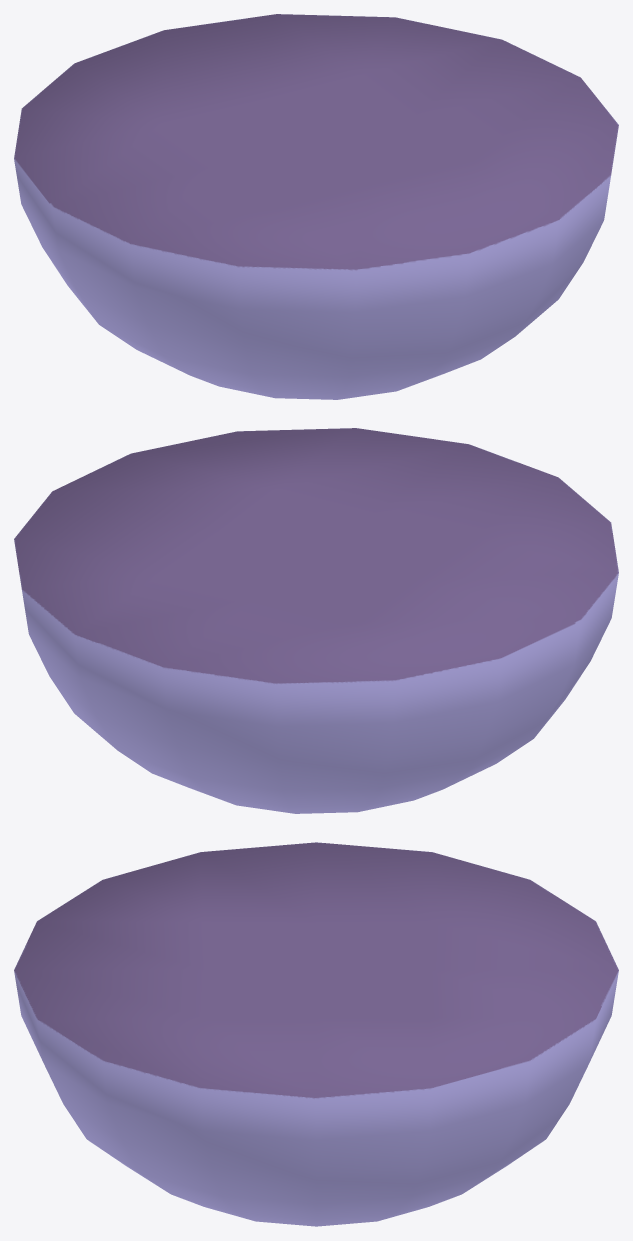
File: gea_body_upper.glb
3 renders of one model, top to bottom at view 1: azimuth 30°, elevation 25°; view 2: azimuth 150°, elevation 25°; view 3: azimuth 270°, elevation 25°, orthographic.
Visible parts, largest first — view 1: gea_body_upper; view 2: gea_body_upper; view 3: gea_body_upper.
Boxes of the visible parts, x1,y1,x2,y2 form: gea_body_upper: (14, 14, 618, 399); gea_body_upper: (14, 428, 618, 813); gea_body_upper: (14, 842, 618, 1226).
Bounding box in the file's own units: 2.77 × 1.11 × 2.77.
1 material, 1 textured.
